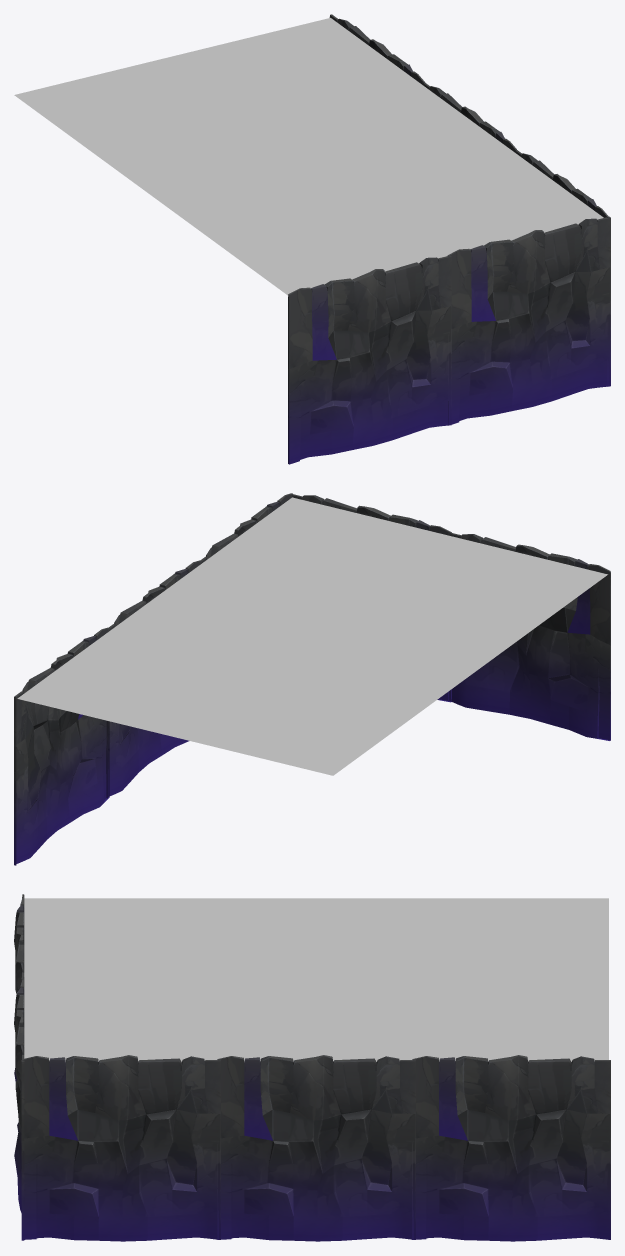
File: Floor_RecLU.FBX
The picture shows the model from 3 angles, top to bottom: view 1: azimuth 30°, elevation 25°; view 2: azimuth 150°, elevation 25°; view 3: azimuth 270°, elevation 25°; orthographic projection. The views are drawn at different scales.
Parts seen in each view (by area): view 1: floor, Floor_RecLU; view 2: floor, Floor_RecLU; view 3: Floor_RecLU, floor.
Part boxes in pixels (<box>): floor: <box>14,18,603,295</box>; Floor_RecLU: <box>288,14,610,464</box>; floor: <box>17,497,607,775</box>; Floor_RecLU: <box>14,493,610,865</box>; Floor_RecLU: <box>14,894,610,1241</box>; floor: <box>24,898,608,1061</box>.
Size of the model in its own units: 808 by 411 by 1206.
